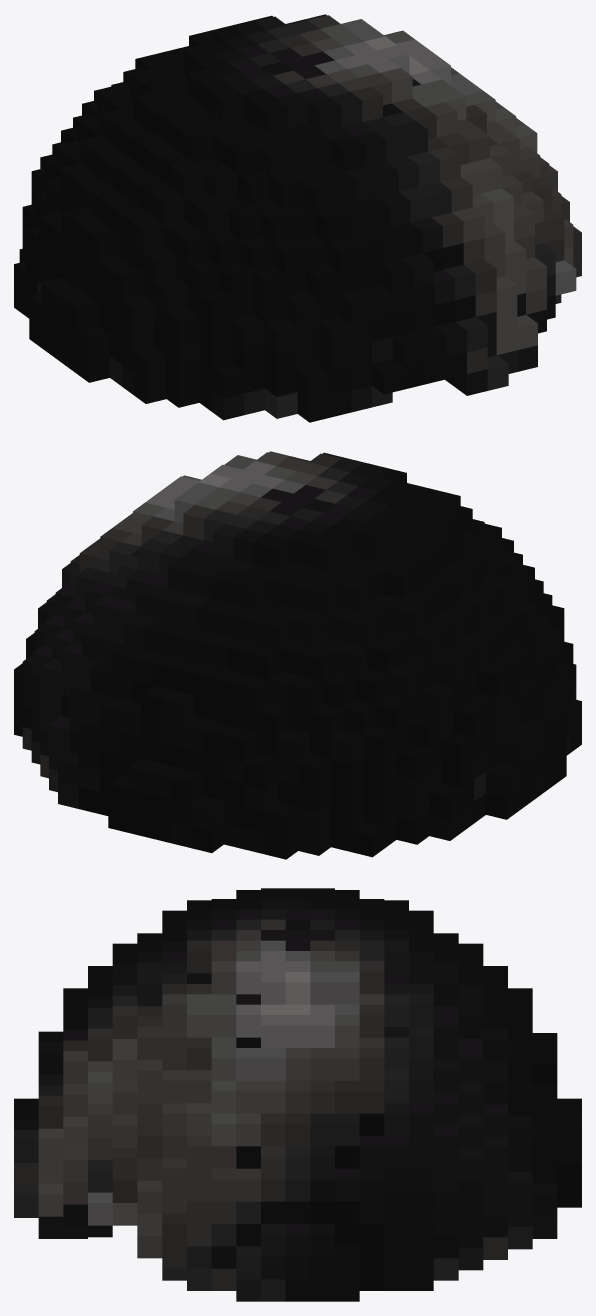
Rendered from half-shield-named-nodes.glb.
3 renders of one model, top to bottom at view 1: azimuth 30°, elevation 25°; view 2: azimuth 150°, elevation 25°; view 3: azimuth 270°, elevation 25°, orthographic. The views are drawn at different scales.
Parts seen in each view (by area): view 1: geometry_0; view 2: geometry_0; view 3: geometry_0.
Part boxes in pixels (x1,y1,x2,y2): geometry_0: (14, 14, 581, 422); geometry_0: (14, 451, 581, 859); geometry_0: (14, 888, 581, 1301).
Bounding box in the file's own units: 1.07 × 0.5136 × 1.07.
Materials: 1 (1 with a texture image).
